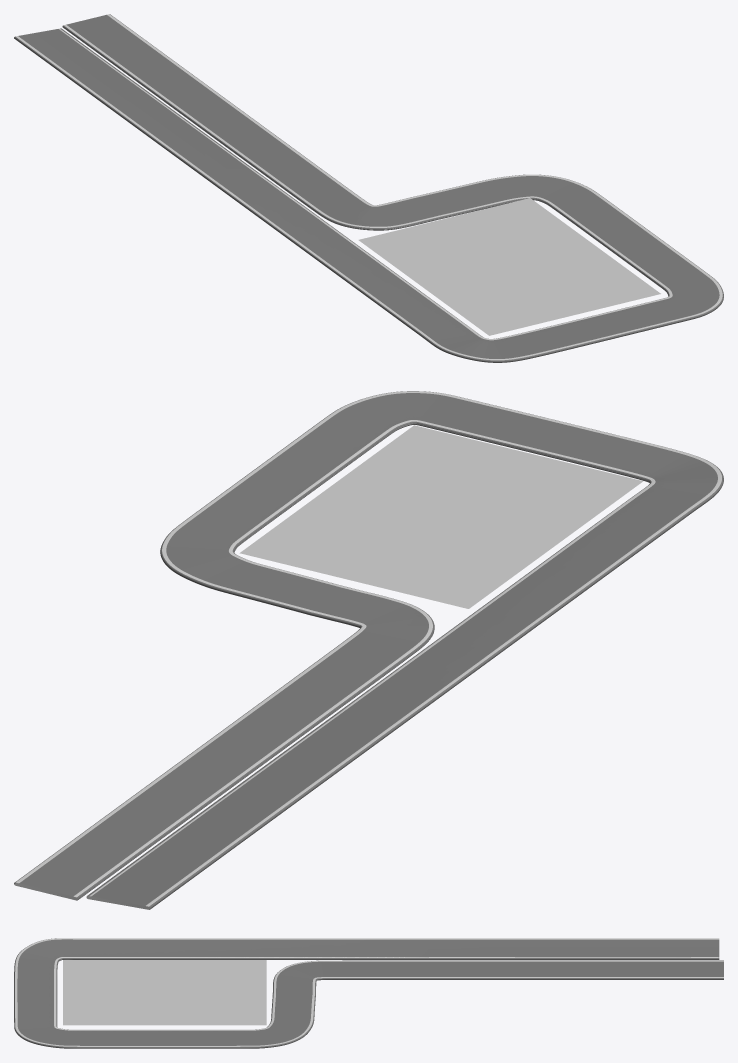
The model's file is ParkLotAndWay.fbx.
3 views of the same model, one above another, from view 1: azimuth 30°, elevation 25°; view 2: azimuth 150°, elevation 25°; view 3: azimuth 270°, elevation 25° (orthographic). The views are drawn at different scales.
Visible parts, largest first — view 1: NurbsPath, Plane; view 2: NurbsPath, Plane; view 3: NurbsPath, Plane.
Part boxes in pixels (box(x1,y1,x2,y2)): NurbsPath: box(14, 14, 723, 362); Plane: box(358, 198, 660, 335); NurbsPath: box(14, 391, 723, 909); Plane: box(239, 425, 643, 608); NurbsPath: box(14, 938, 723, 1048); Plane: box(63, 960, 266, 1025).
Size of the model in its own units: 4917 by 113 by 13801.
